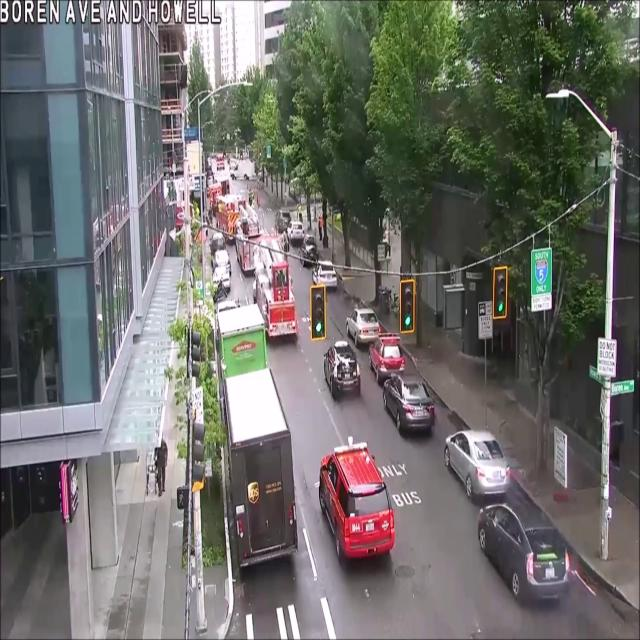traffic-light: (477, 487, 575, 604), (318, 443, 395, 566), (444, 430, 509, 504), (383, 375, 436, 434), (323, 340, 361, 399), (369, 336, 405, 385), (346, 308, 383, 347)
truck: (216, 306, 297, 566), (253, 236, 298, 338)
